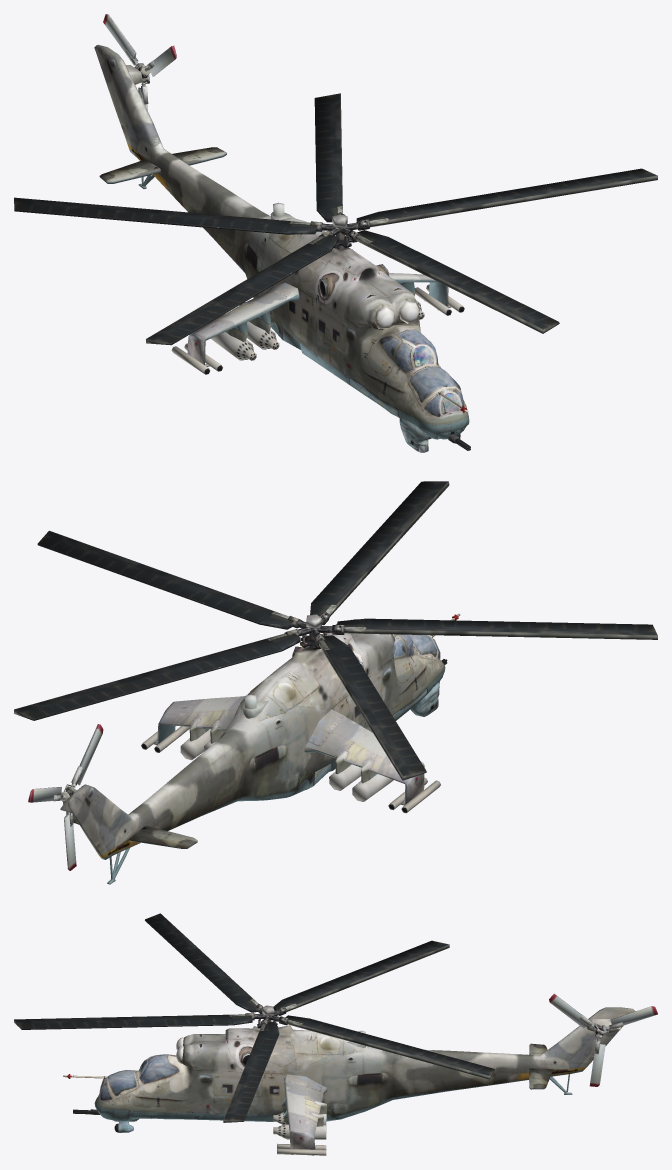
3 renders of one model, top to bottom at view 1: azimuth 30°, elevation 25°; view 2: azimuth 150°, elevation 25°; view 3: azimuth 270°, elevation 25°, orthographic. The views are drawn at different scales.
Parts seen in each view (by area): view 1: Body, Top_Rotor, Tail_Rotor; view 2: Body, Top_Rotor, Tail_Rotor; view 3: Body, Top_Rotor, Tail_Rotor.
Boxes of the visible parts, x1,y1,x2,y2 form: Body: (94, 44, 470, 452); Top_Rotor: (14, 93, 657, 345); Tail_Rotor: (103, 14, 176, 110); Body: (60, 613, 460, 884); Top_Rotor: (14, 481, 657, 780); Tail_Rotor: (28, 724, 103, 870); Body: (63, 1007, 635, 1155); Top_Rotor: (14, 913, 494, 1122); Tail_Rotor: (549, 993, 657, 1086).
Bounding box in the file's own units: 12.99 × 4.16 × 17.25.
Materials: 1 (1 with a texture image).
